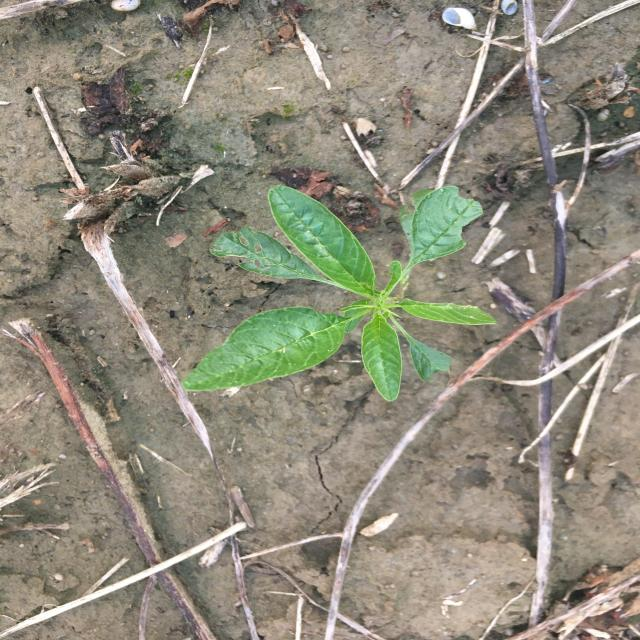Waterhemp: (179, 183, 500, 404)
